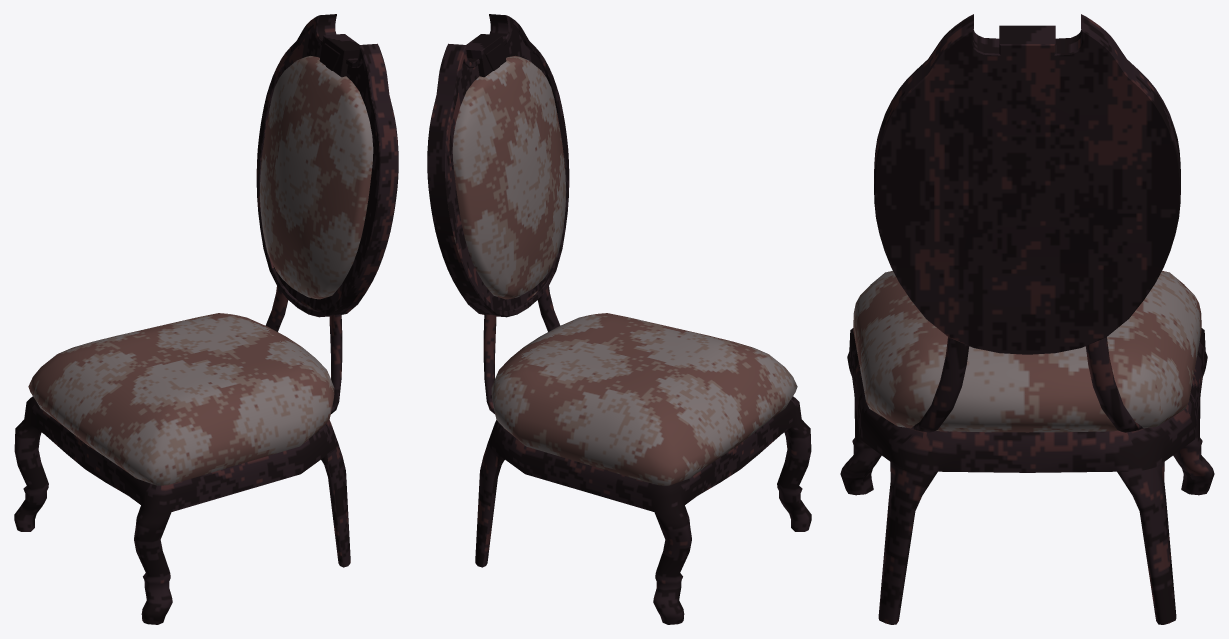
Rendered from chair.fbx.
3 renders of one model, left to right at view 1: azimuth 30°, elevation 25°; view 2: azimuth 150°, elevation 25°; view 3: azimuth 270°, elevation 25°, orthographic. The views are drawn at different scales.
Visible parts, largest first — view 1: ChairMesh; view 2: ChairMesh; view 3: ChairMesh.
Boxes of the visible parts, bbox=[...] form: ChairMesh: bbox=[14, 14, 398, 624]; ChairMesh: bbox=[427, 14, 811, 624]; ChairMesh: bbox=[840, 14, 1214, 624].
Bounding box in the file's own units: 64.76 × 106 × 56.33.
